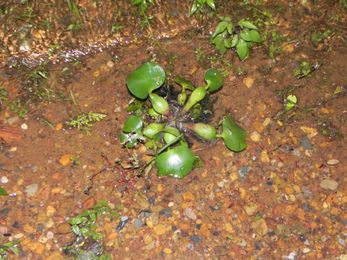water_hyacinth: (117, 62, 251, 181)
